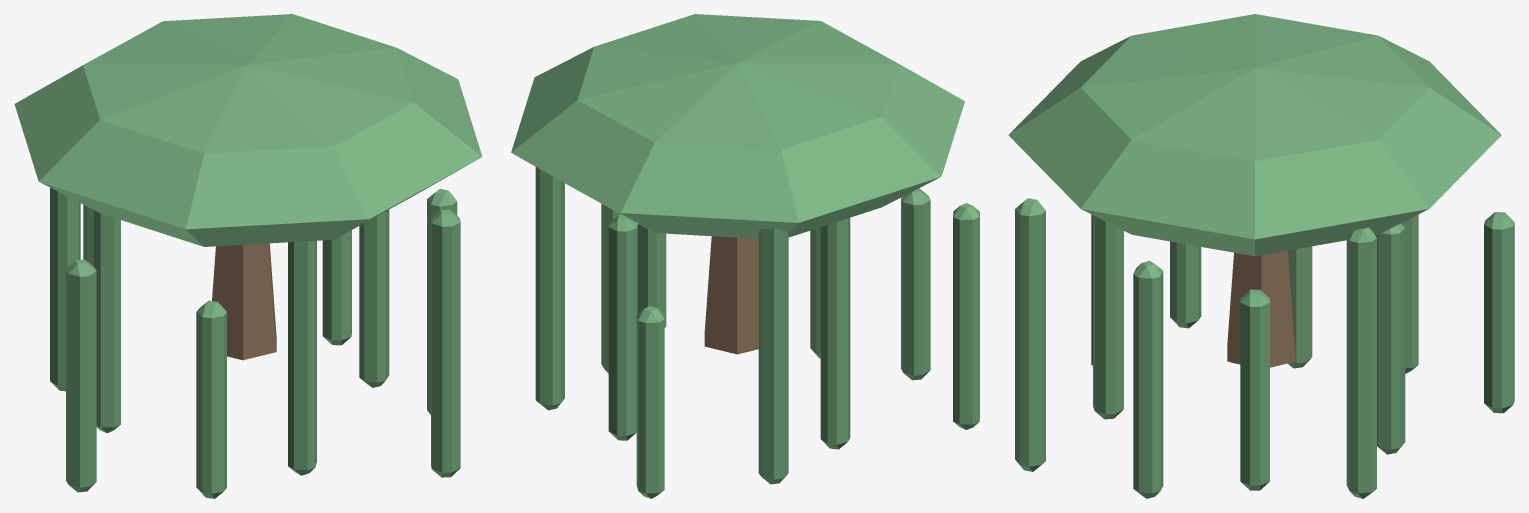
Rendered from willow_tree.glb.
The picture shows the model from 3 angles, left to right: view 1: azimuth 30°, elevation 25°; view 2: azimuth 150°, elevation 25°; view 3: azimuth 270°, elevation 25°; orthographic projection. The views are drawn at different scales.
Visible parts, largest first — view 1: willow-tree; view 2: willow-tree; view 3: willow-tree.
Boxes of the visible parts, bbox=[...] form: willow-tree: bbox=[14, 14, 482, 498]; willow-tree: bbox=[511, 14, 979, 498]; willow-tree: bbox=[1008, 14, 1514, 498].
Size of the model in its own units: 165698 by 131080 by 168099.
